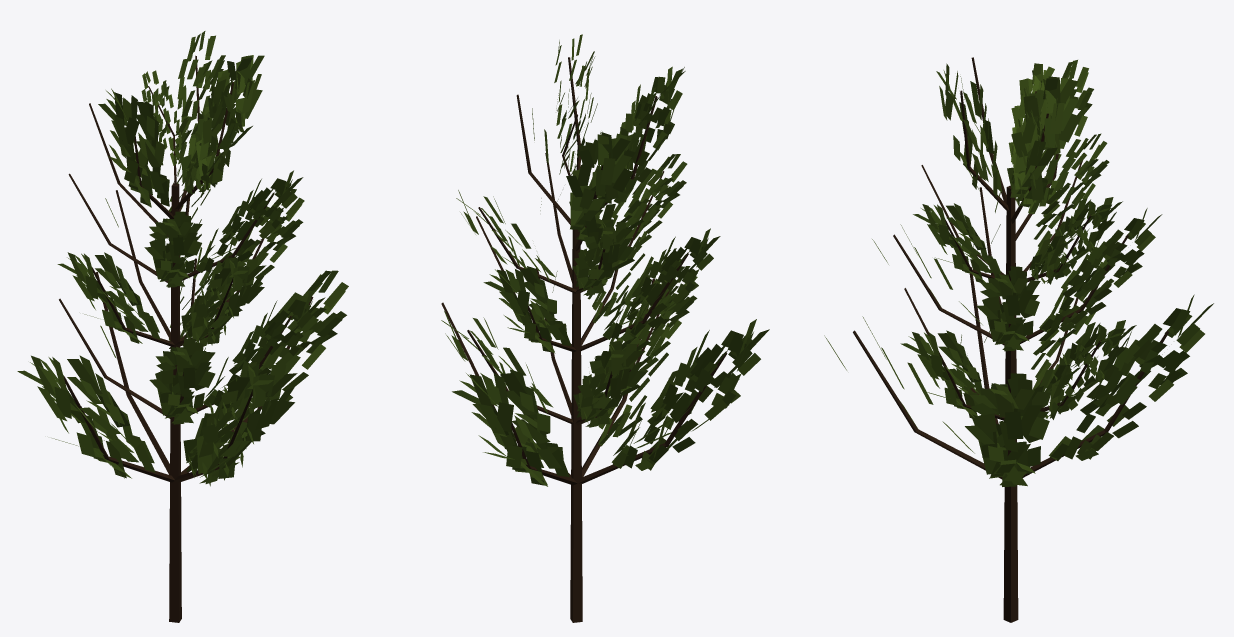
Rendered from tree.glb.
3 renders of one model, left to right at view 1: azimuth 30°, elevation 25°; view 2: azimuth 150°, elevation 25°; view 3: azimuth 270°, elevation 25°, orthographic.
Visible parts, largest first — view 1: Tree1; view 2: Tree1; view 3: Tree1.
Part boxes in pixels (bbox=[...]): Tree1: bbox=[17, 31, 348, 622]; Tree1: bbox=[441, 34, 769, 622]; Tree1: bbox=[824, 57, 1213, 622].
Size of the model in its own units: 9.45 by 14.64 by 9.57.
